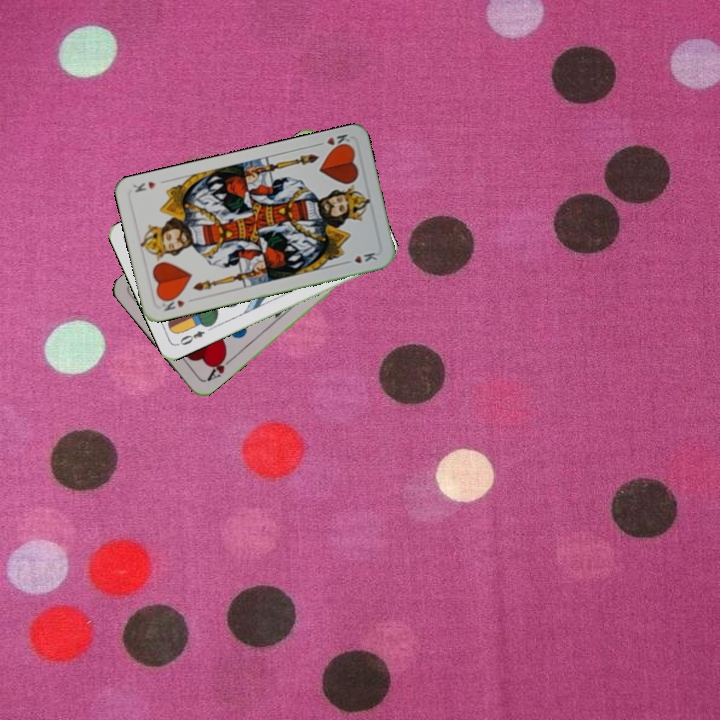EO: (176, 327, 207, 348)
HA: (203, 350, 236, 384)
HK: (322, 130, 353, 153), (158, 292, 187, 314)
